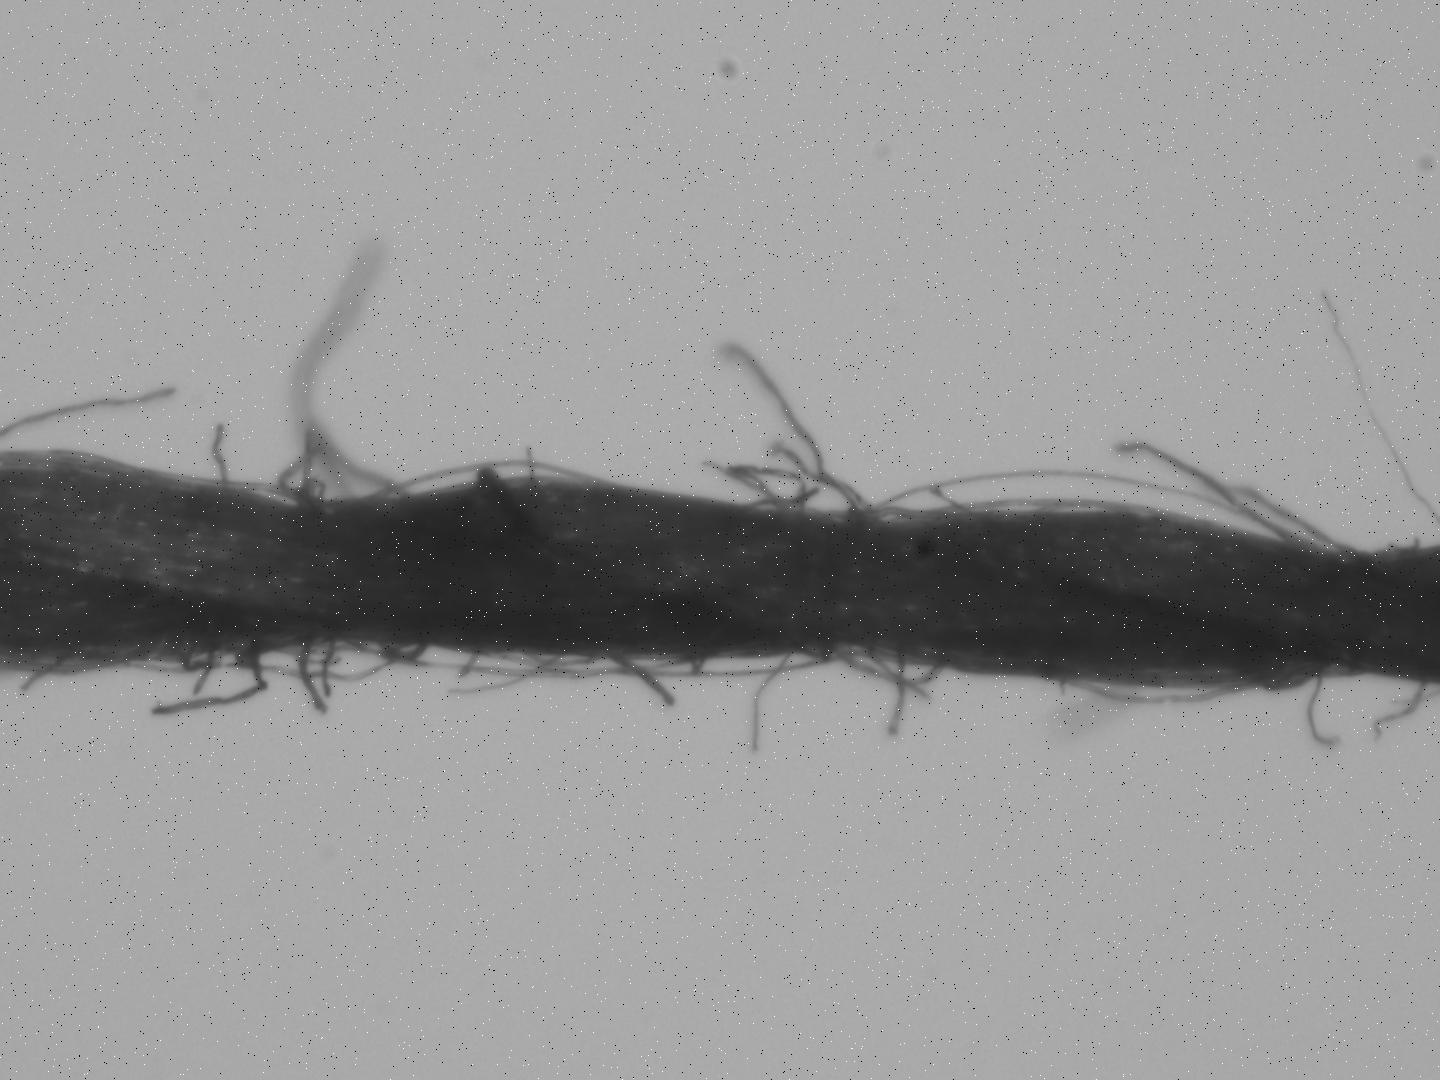loop_fiber: (863, 467, 1303, 550), (361, 642, 841, 703), (225, 423, 417, 512), (113, 636, 429, 687), (374, 453, 628, 504), (1049, 666, 1316, 709), (709, 462, 815, 517), (844, 640, 951, 689)
protruding_fiber: (1104, 444, 1362, 560), (1323, 299, 1439, 546), (730, 344, 869, 526), (302, 244, 371, 512), (0, 383, 176, 454), (153, 649, 271, 719), (439, 652, 553, 699), (745, 652, 788, 754), (1364, 678, 1429, 739), (1302, 670, 1338, 749), (296, 644, 329, 723), (886, 653, 912, 740), (207, 421, 231, 491), (15, 656, 54, 694)
